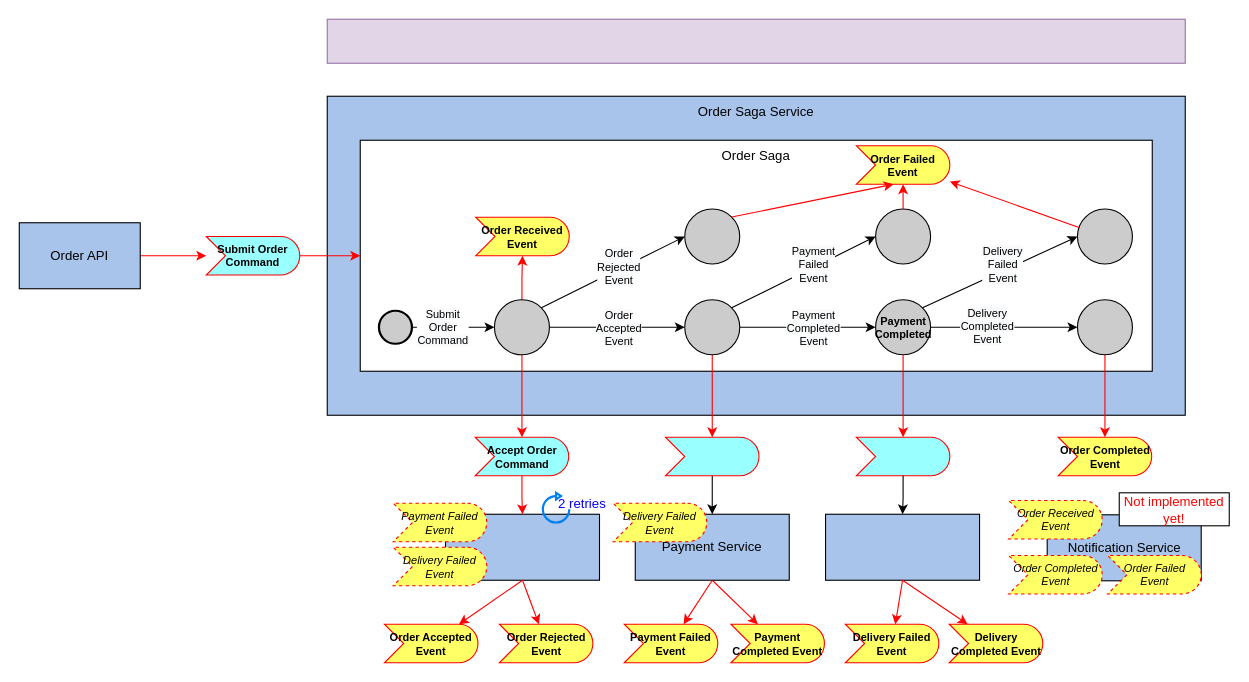
Some shapes in this 1249 by 682 pixel diagram are drawn without their labels. Each missing label, with the centre of its shape:
"Accepted" belongs at point (712, 327).
"Deliver Items Command" belongs at point (902, 456).
"Delivered" belongs at point (1104, 327).
"Delivery Failed" belongs at point (1104, 236).
"Execute Payment Command" belongs at point (711, 456).
"Initial" belongs at point (395, 326).
"Order Service" belongs at point (522, 546).
"Payment Failed" belongs at point (903, 236).
"Rabbit MQ - Message Broker" belongs at point (755, 40).
"Rejected" belongs at point (712, 236).
"Stock Service" belongs at point (902, 546).
"Submitted" belongs at point (521, 327).
